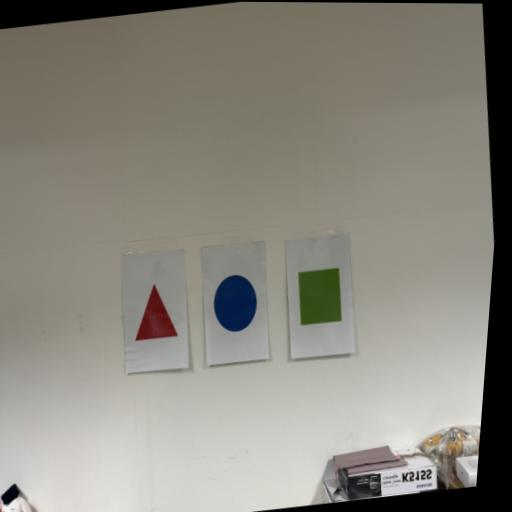blue_circle: (206, 271, 263, 336)
green_rectangle: (294, 270, 346, 327)
red_triangle: (135, 284, 175, 341)
